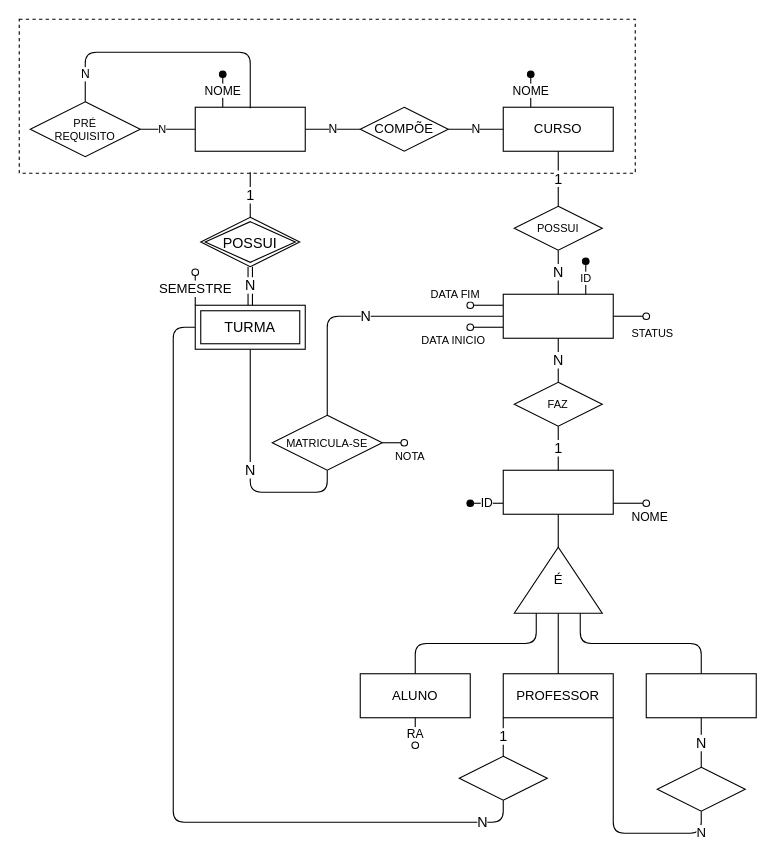
Image size: 776x860. Some labels were removed from this diagram. The centre of each missing label's shape, as x and y in pixels:
AUXILIA: the point at 700,788
DISCIPLINA: the point at 249,128
FUNCIONARIO: the point at 700,695
INSCRIÇÃO: the point at 557,315
MINISTRA: the point at 502,777
PESSOA: the point at 557,491
